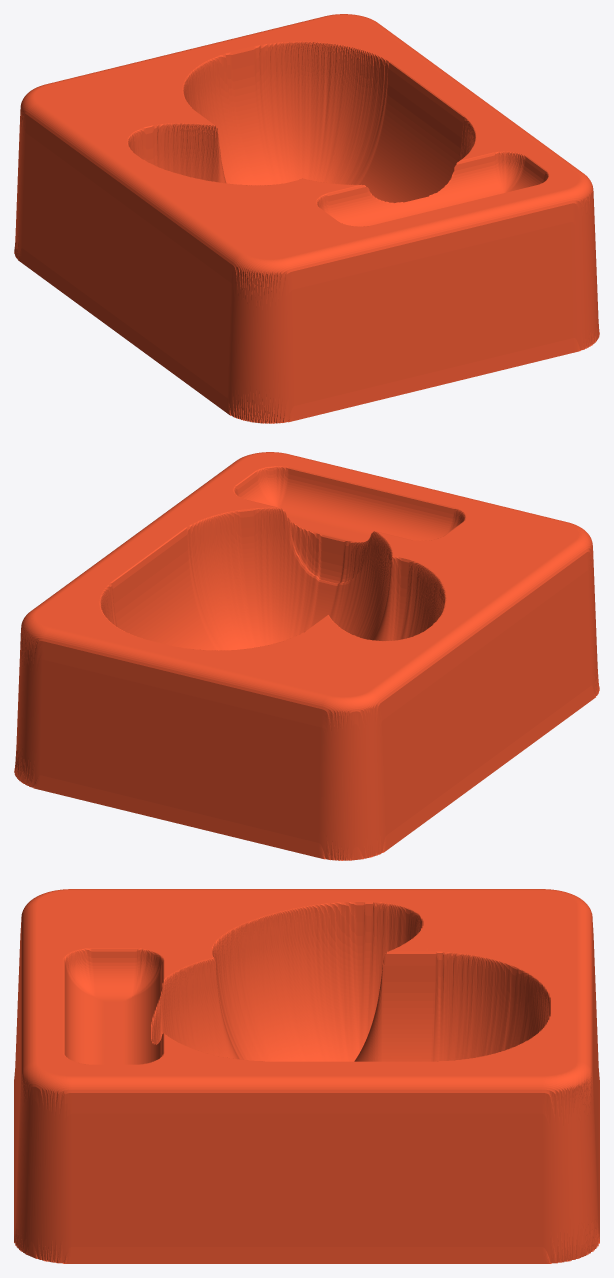
Rendered from mold.glb.
3 renders of one model, top to bottom at view 1: azimuth 30°, elevation 25°; view 2: azimuth 150°, elevation 25°; view 3: azimuth 270°, elevation 25°, orthographic. The views are drawn at different scales.
Parts seen in each view (by area): view 1: geometry_0; view 2: geometry_0; view 3: geometry_0.
Part boxes in pixels (left/top/right/bottom): geometry_0: left=14, top=14, right=599, bottom=423; geometry_0: left=14, top=452, right=599, bottom=860; geometry_0: left=14, top=889, right=599, bottom=1263.
Size of the model in its own units: 0.0764 by 0.031 by 0.0924.
